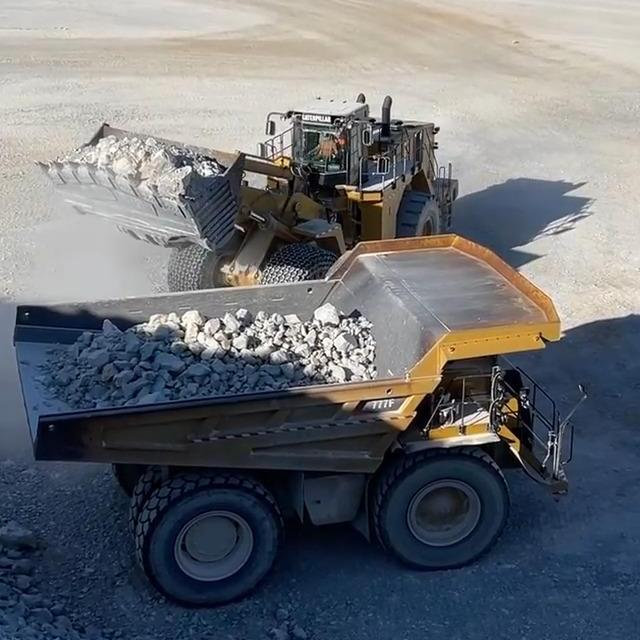NO-Hardhat: (325, 132, 332, 137)
NO-Safety Vest: (322, 140, 333, 156)
Person: (317, 132, 338, 159)
dump truck: (4, 229, 588, 612)
wheel loader: (32, 85, 460, 317)
